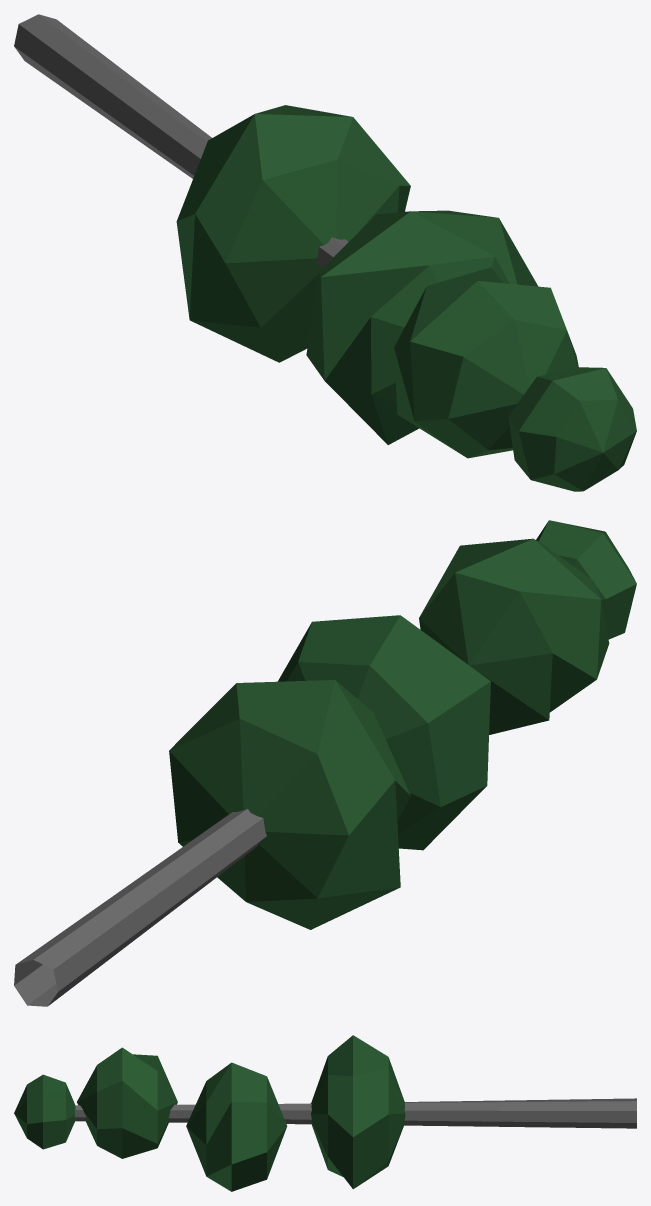
Rendered from growth_1.glb.
The picture shows the model from 3 angles, top to bottom: view 1: azimuth 30°, elevation 25°; view 2: azimuth 150°, elevation 25°; view 3: azimuth 270°, elevation 25°; orthographic projection. The views are drawn at different scales.
Parts seen in each view (by area): view 1: tree_05_growth_1; view 2: tree_05_growth_1; view 3: tree_05_growth_1.
Boxes of the visible parts, x1,y1,x2,y2 form: tree_05_growth_1: (14, 14, 636, 491); tree_05_growth_1: (14, 520, 636, 1006); tree_05_growth_1: (14, 1035, 636, 1191).
Size of the model in its own units: 8.18 by 8.15 by 32.73.
